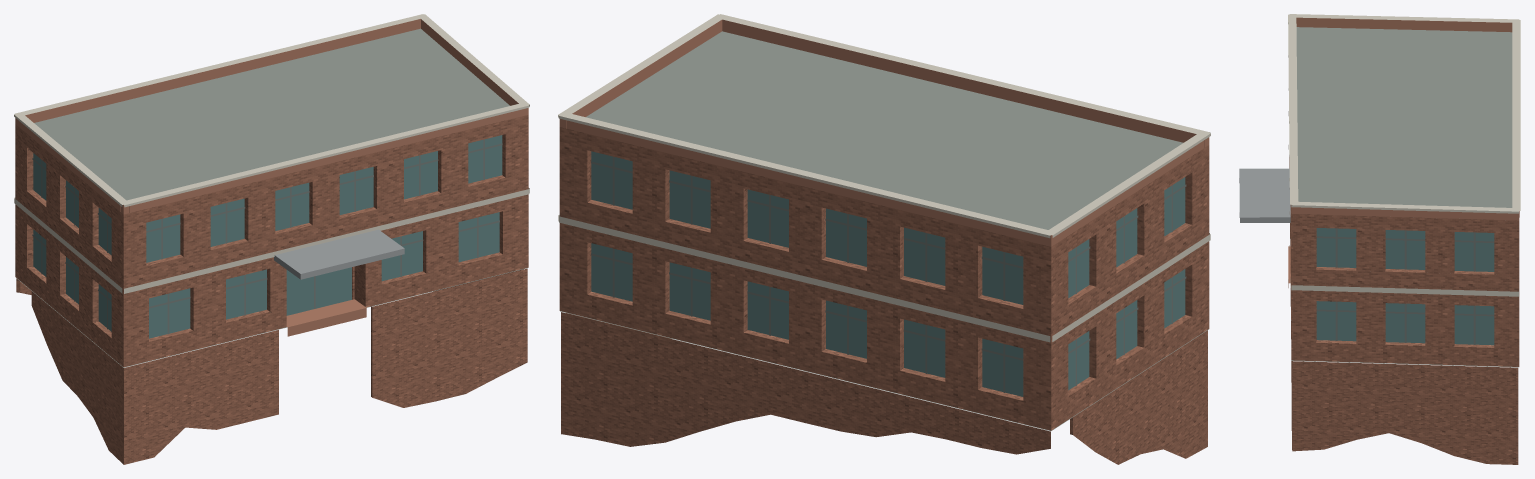
The picture shows the model from 3 angles, left to right: view 1: azimuth 30°, elevation 25°; view 2: azimuth 150°, elevation 25°; view 3: azimuth 270°, elevation 25°; orthographic projection. The views are drawn at different scales.
Parts seen in each view (by area): view 1: guest__wall, guest__roof, guest__foundationSkirt, guest__glass, guest__trim, guest__parapet, guest__canopy, guest__frame, guest__entranceThreshold_0; view 2: guest__wall, guest__roof, guest__foundationSkirt, guest__glass, guest__trim, guest__parapet, guest__frame; view 3: guest__roof, guest__wall, guest__foundationSkirt, guest__glass, guest__trim, guest__parapet, guest__canopy, guest__frame.
Boxes of the visible parts, x1=… form: guest__wall: x1=15, y1=115, x2=528, y2=367; guest__roof: x1=16, y1=28, x2=527, y2=367; guest__foundationSkirt: x1=16, y1=268, x2=527, y2=464; guest__glass: x1=33, y1=135, x2=502, y2=338; guest__trim: x1=14, y1=14, x2=529, y2=293; guest__parapet: x1=15, y1=19, x2=528, y2=214; guest__canopy: x1=274, y1=229, x2=404, y2=279; guest__frame: x1=32, y1=139, x2=502, y2=334; guest__entranceThreshold_0: x1=286, y1=299, x2=366, y2=336; guest__wall: x1=559, y1=127, x2=1209, y2=430; guest__roof: x1=560, y1=31, x2=1208, y2=430; guest__foundationSkirt: x1=561, y1=312, x2=1207, y2=464; guest__glass: x1=591, y1=151, x2=1185, y2=396; guest__trim: x1=558, y1=14, x2=1210, y2=342; guest__parapet: x1=559, y1=19, x2=1209, y2=246; guest__frame: x1=591, y1=156, x2=1186, y2=392; guest__roof: x1=1290, y1=27, x2=1518, y2=367; guest__wall: x1=1289, y1=157, x2=1519, y2=366; guest__foundationSkirt: x1=1290, y1=306, x2=1518, y2=464; guest__glass: x1=1316, y1=228, x2=1494, y2=345; guest__trim: x1=1288, y1=14, x2=1520, y2=296; guest__parapet: x1=1291, y1=17, x2=1519, y2=220; guest__canopy: x1=1239, y1=168, x2=1290, y2=222; guest__frame: x1=1316, y1=228, x2=1494, y2=344.
Bounding box in the file's own units: 20.26 × 12.55 × 12.18.
10 materials, 2 textured.
